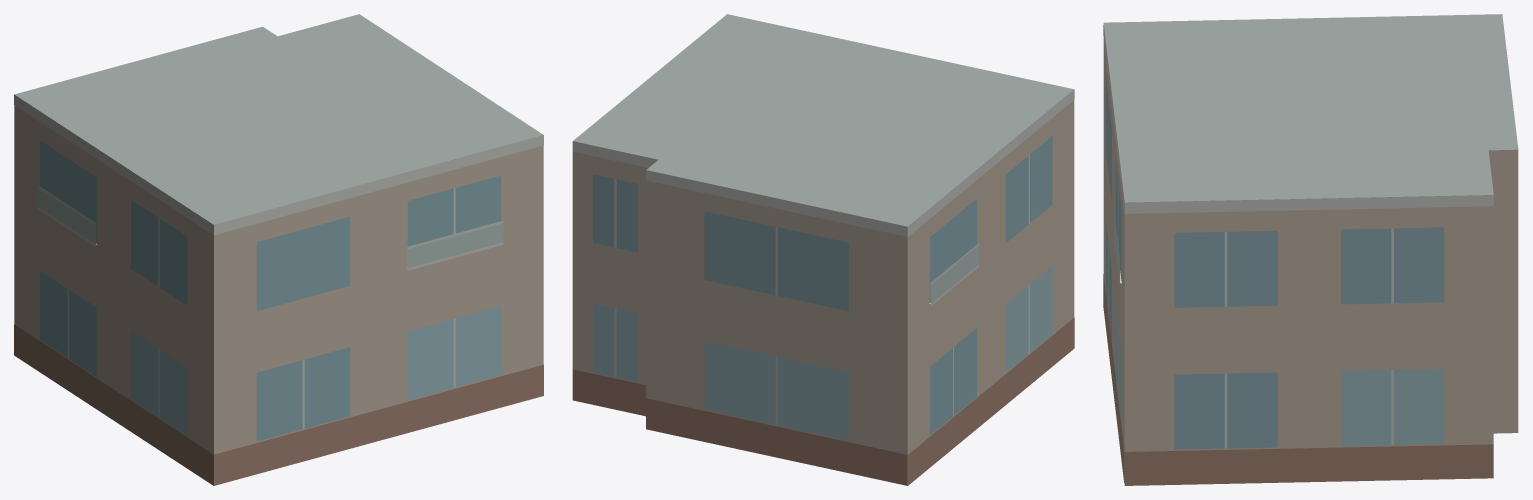
Rendered from survey-upis-32807276.glb.
3 views of the same model, side by side, from view 1: azimuth 30°, elevation 25°; view 2: azimuth 150°, elevation 25°; view 3: azimuth 270°, elevation 25° (orthographic). The views are drawn at different scales.
Parts seen in each view (by area): view 1: survey-upis-32807276.tmp; view 2: survey-upis-32807276.tmp; view 3: survey-upis-32807276.tmp.
Part boxes in pixels (box(x1,y1,x2,y2)): survey-upis-32807276.tmp: box(14, 14, 543, 485); survey-upis-32807276.tmp: box(572, 14, 1074, 485); survey-upis-32807276.tmp: box(1103, 14, 1518, 485).
Bounding box in the file's own units: 8.71 × 6.1 × 8.11.
